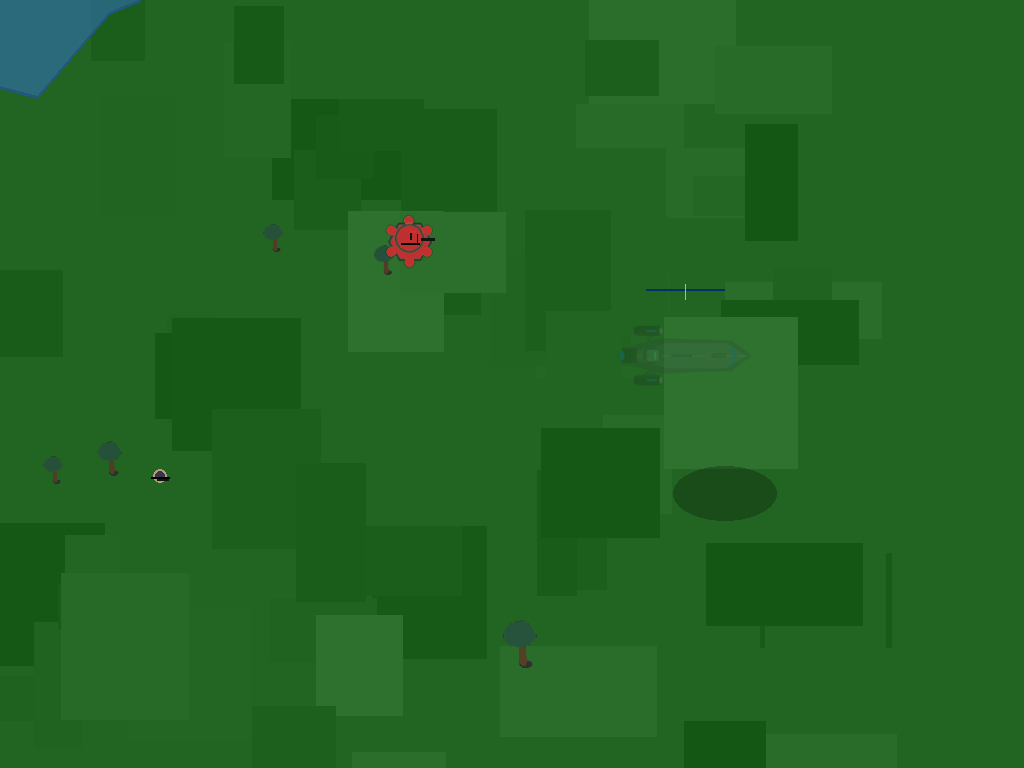Bunker: (381, 213, 439, 271)
KirovAirship: (626, 395, 744, 513)
Lake: (0, 0, 250, 97)
RocketTrooper: (146, 461, 175, 490)
